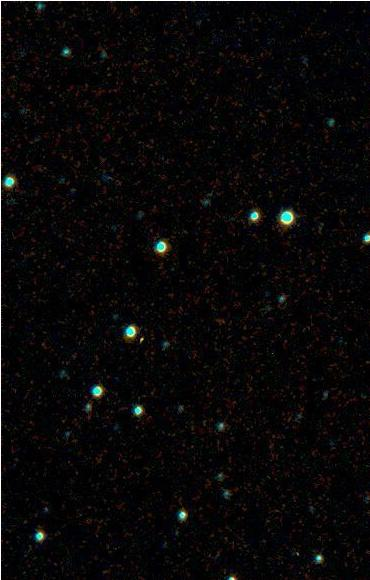star: (125, 319, 155, 349)
